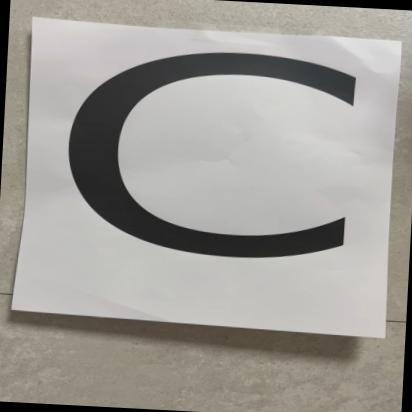seat: (28, 21, 400, 337)
